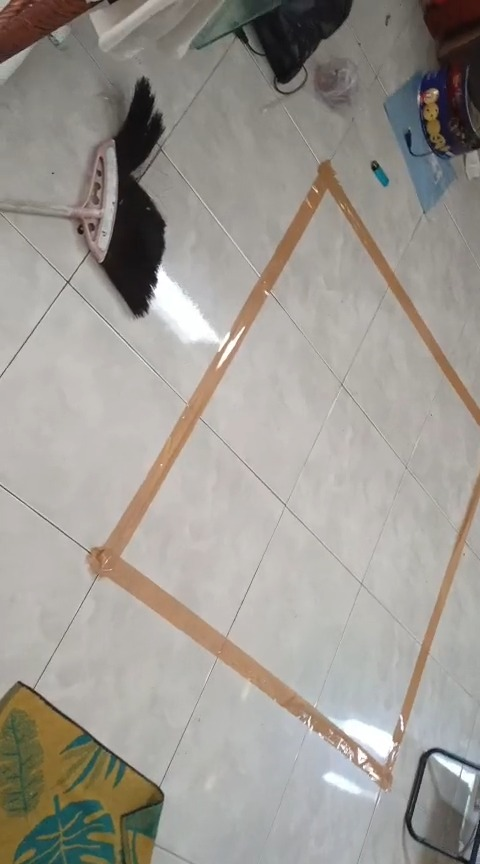floor marking: (89, 162, 479, 789)
